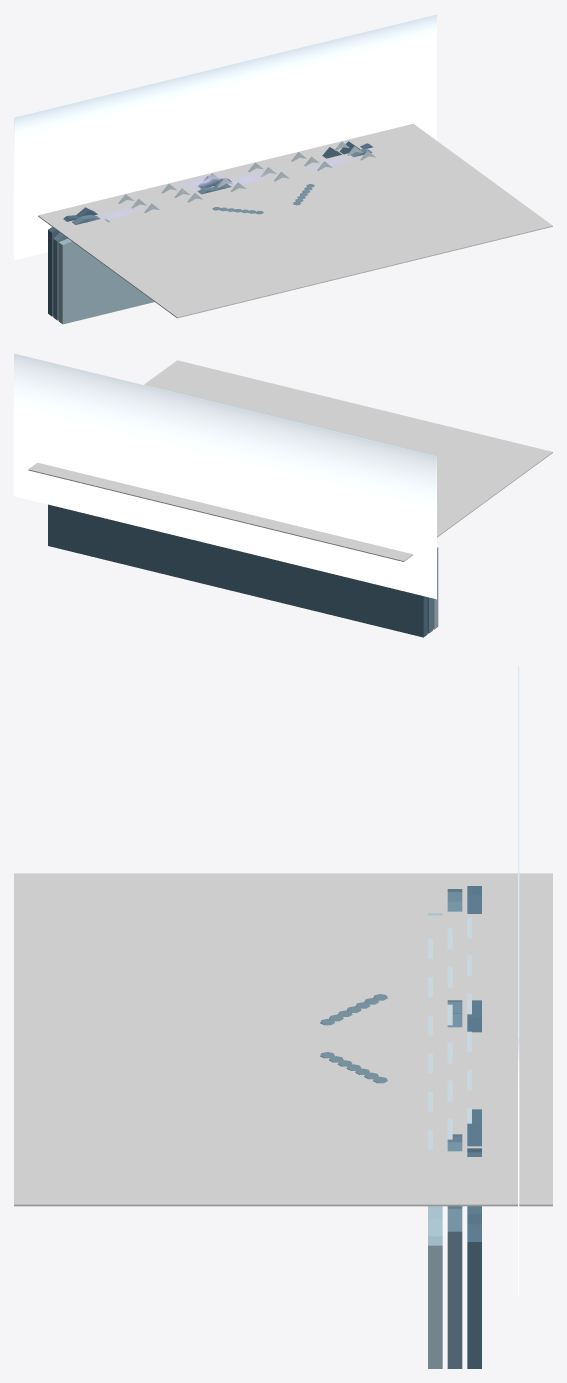
File: yulehangar.glb
3 views of the same model, one above another, from view 1: azimuth 30°, elevation 25°; view 2: azimuth 150°, elevation 25°; view 3: azimuth 270°, elevation 25° (orthographic). The views are drawn at different scales.
Parts seen in each view (by area): view 1: Ground contact / transparent shadow receiver.068, Sky gradient / editable material.068, World / terrain and architecture.031, Motion / cloud 2.006, Motion / cloud 3.006; view 2: Sky gradient / editable material.068, Ground contact / transparent shadow receiver.068, World / terrain and architecture.031; view 3: Ground contact / transparent shadow receiver.068, World / terrain and architecture.031, Sky gradient / editable material.068, Foreground / edge details.029.
Part boxes in pixels (box(x1,y1,x2,y2)): Ground contact / transparent shadow receiver.068: box(38, 123, 552, 318); Sky gradient / editable material.068: box(14, 14, 436, 260); World / terrain and architecture.031: box(48, 141, 375, 324); Motion / cloud 2.006: box(180, 174, 224, 189); Motion / cloud 3.006: box(223, 172, 268, 187); Sky gradient / editable material.068: box(14, 353, 436, 599); Ground contact / transparent shadow receiver.068: box(28, 360, 552, 561); World / terrain and architecture.031: box(48, 504, 438, 637); Ground contact / transparent shadow receiver.068: box(14, 873, 552, 1206); World / terrain and architecture.031: box(428, 886, 481, 1368); Sky gradient / editable material.068: box(518, 666, 519, 1296); Foreground / edge details.029: box(320, 994, 387, 1083).
Bounding box in the file's own units: 180 × 79 × 110.
Materials: 20 (1 with a texture image).
